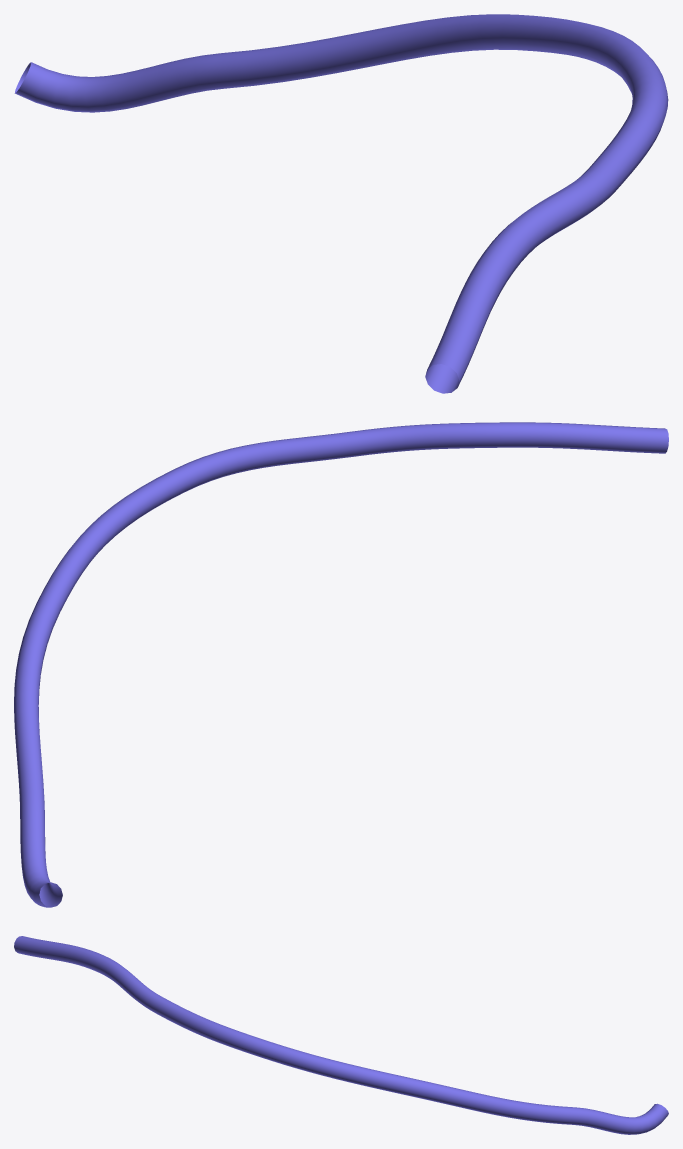
File: Circumflex_scapular_vein.l_BezierCurve.313.glb
The picture shows the model from 3 angles, top to bottom: view 1: azimuth 30°, elevation 25°; view 2: azimuth 150°, elevation 25°; view 3: azimuth 270°, elevation 25°; orthographic projection. The views are drawn at different scales.
Parts seen in each view (by area): view 1: Circumflex_scapular_vein.l_BezierCurve.313; view 2: Circumflex_scapular_vein.l_BezierCurve.313; view 3: Circumflex_scapular_vein.l_BezierCurve.313.
Boxes of the visible parts, box(x1,y1,x2,y2) form: Circumflex_scapular_vein.l_BezierCurve.313: box(14, 14, 668, 393); Circumflex_scapular_vein.l_BezierCurve.313: box(14, 422, 668, 907); Circumflex_scapular_vein.l_BezierCurve.313: box(14, 936, 668, 1134).
Size of the model in its own units: 0.023 by 0.013 by 0.0514.
